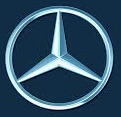Mercedes: (1, 2, 117, 115)
